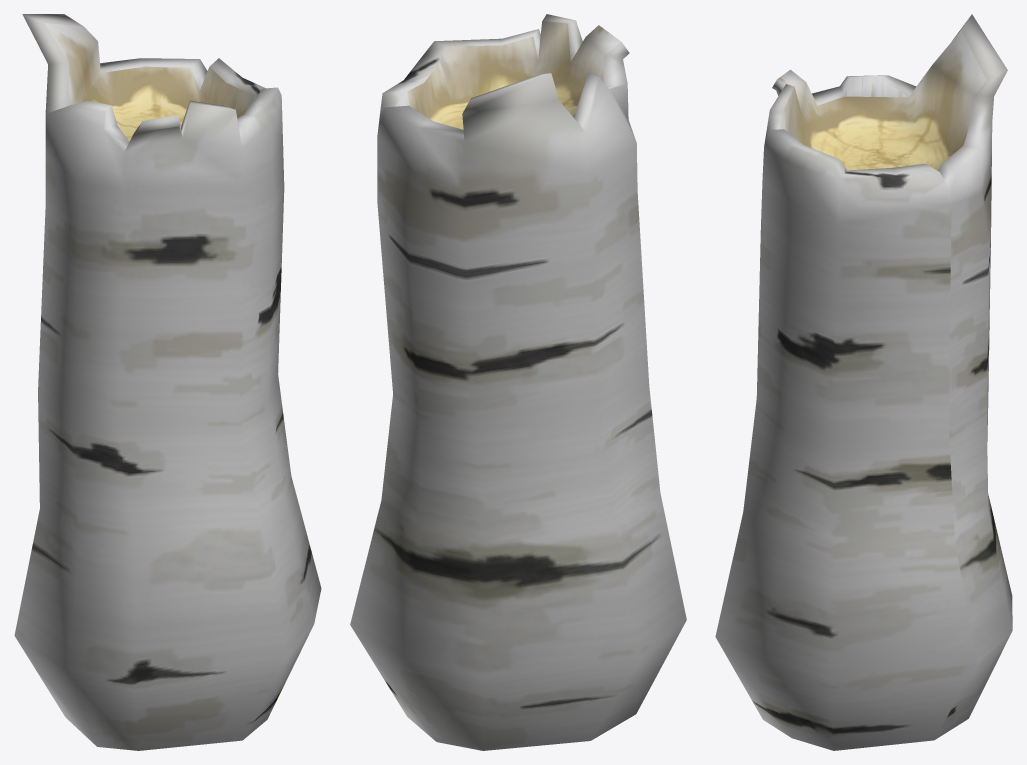
Rendered from P_BirchStump.obj.
3 renders of one model, left to right at view 1: azimuth 30°, elevation 25°; view 2: azimuth 150°, elevation 25°; view 3: azimuth 270°, elevation 25°, orthographic. The views are drawn at different scales.
Size of the model in its own units: 1.27 by 3 by 1.24.
